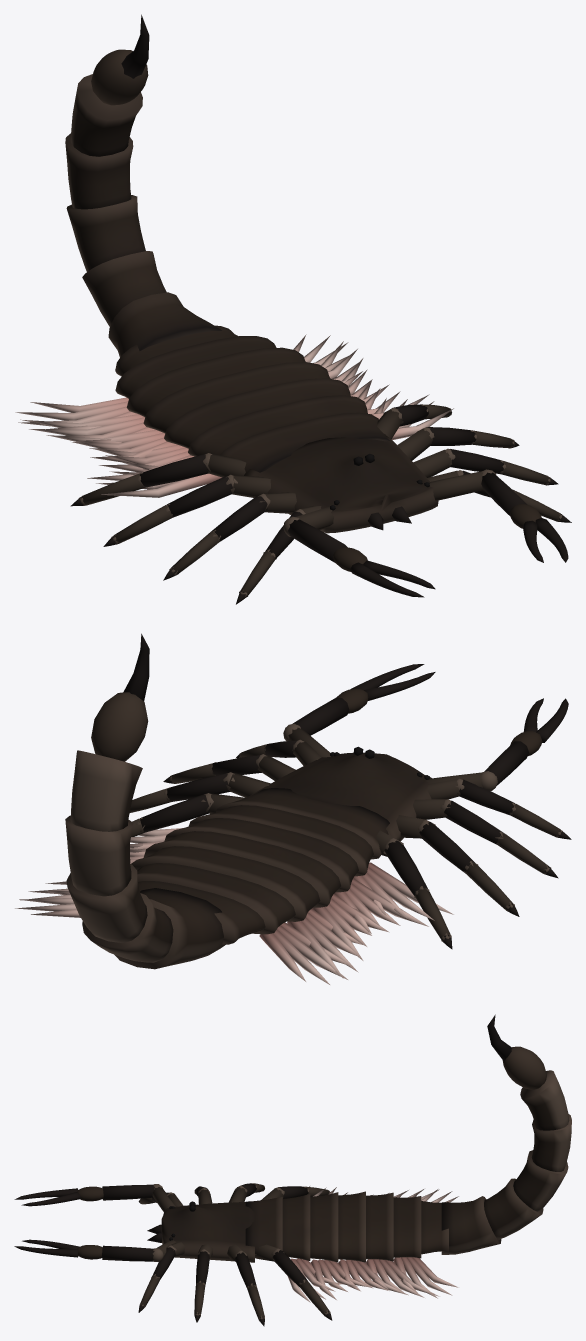
The model's file is Waeringoscorpio.fbx.
The picture shows the model from 3 angles, top to bottom: view 1: azimuth 30°, elevation 25°; view 2: azimuth 150°, elevation 25°; view 3: azimuth 270°, elevation 25°; orthographic projection. The views are drawn at different scales.
Parts seen in each view (by area): view 1: Waeringoscorpio; view 2: Waeringoscorpio; view 3: Waeringoscorpio.
Part boxes in pixels (left/top/right/bottom): Waeringoscorpio: left=15, top=14, right=571, bottom=604; Waeringoscorpio: left=15, top=633, right=571, bottom=984; Waeringoscorpio: left=14, top=1014, right=571, bottom=1326.
Size of the model in its own units: 0.877 by 0.7196 by 1.5.
